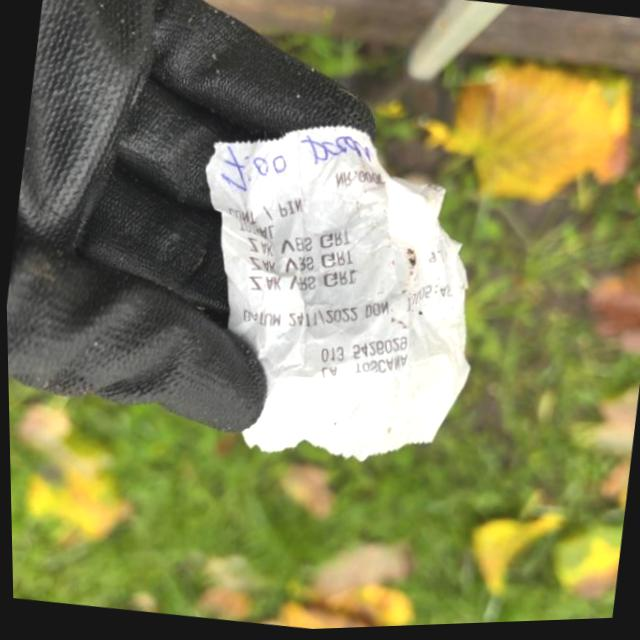Paper: (160, 101, 508, 490)
